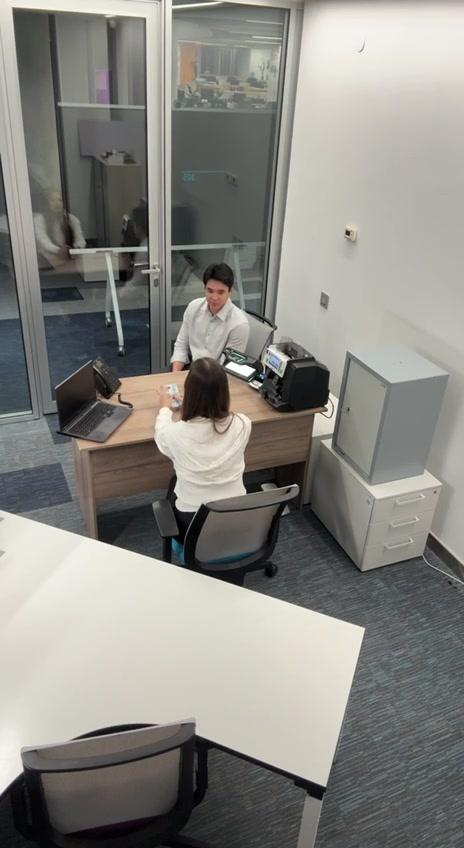cash_stack: (164, 384, 183, 408)
counter: (261, 337, 329, 411)
uv_lamp: (222, 346, 263, 381)
